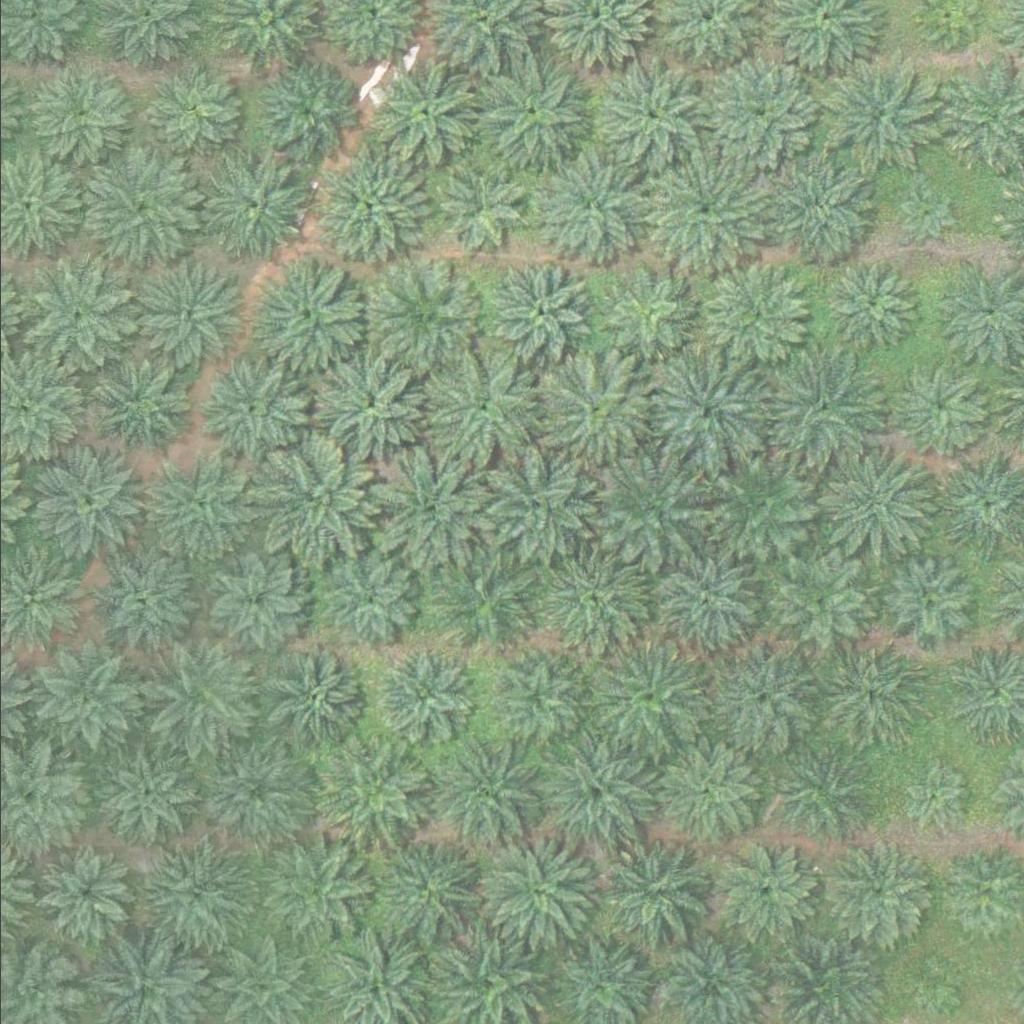Kelapa_Sawit: (707, 446, 821, 559), (771, 352, 885, 465), (597, 453, 711, 566), (431, 738, 545, 851), (255, 836, 369, 949), (135, 839, 249, 952), (650, 352, 763, 465), (826, 55, 939, 168), (703, 59, 816, 172), (591, 54, 704, 167), (477, 57, 590, 170), (372, 58, 485, 171), (312, 152, 425, 265), (253, 262, 366, 375), (537, 353, 650, 466), (478, 448, 591, 561), (372, 450, 485, 563), (257, 444, 370, 557), (599, 642, 712, 755), (539, 739, 652, 852), (478, 833, 591, 946), (369, 835, 482, 948), (26, 643, 139, 756), (131, 258, 244, 371), (15, 262, 128, 375), (196, 149, 309, 262), (82, 154, 195, 267), (646, 541, 760, 653), (538, 549, 652, 661), (306, 739, 420, 851), (702, 640, 815, 752), (822, 448, 935, 560), (695, 259, 808, 371), (761, 153, 874, 265), (648, 155, 761, 267), (530, 149, 643, 261), (367, 261, 480, 373), (425, 355, 538, 467), (319, 353, 432, 465), (424, 546, 537, 658), (198, 735, 311, 847), (598, 836, 711, 948), (144, 638, 257, 750), (140, 450, 253, 562), (29, 447, 142, 559), (195, 357, 308, 469), (828, 838, 929, 938), (717, 838, 818, 938), (772, 745, 873, 845), (656, 743, 757, 843), (816, 640, 917, 740), (872, 553, 973, 653), (769, 553, 870, 653), (257, 60, 358, 160), (424, 160, 525, 260), (602, 264, 703, 364), (491, 260, 592, 360), (319, 550, 420, 650), (200, 552, 301, 652), (258, 652, 359, 752), (34, 844, 135, 944), (93, 746, 194, 846), (96, 552, 197, 652), (90, 362, 191, 462), (891, 357, 991, 457), (822, 255, 922, 355), (372, 647, 472, 747), (139, 61, 239, 161), (25, 66, 125, 166), (487, 653, 575, 741), (892, 756, 967, 831), (900, 953, 963, 1015), (895, 182, 958, 244)
